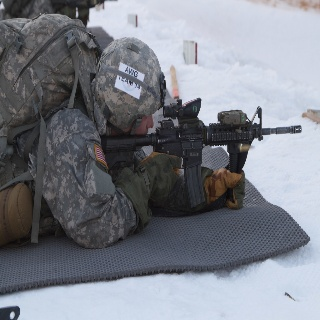rifle: (100, 97, 303, 210)
